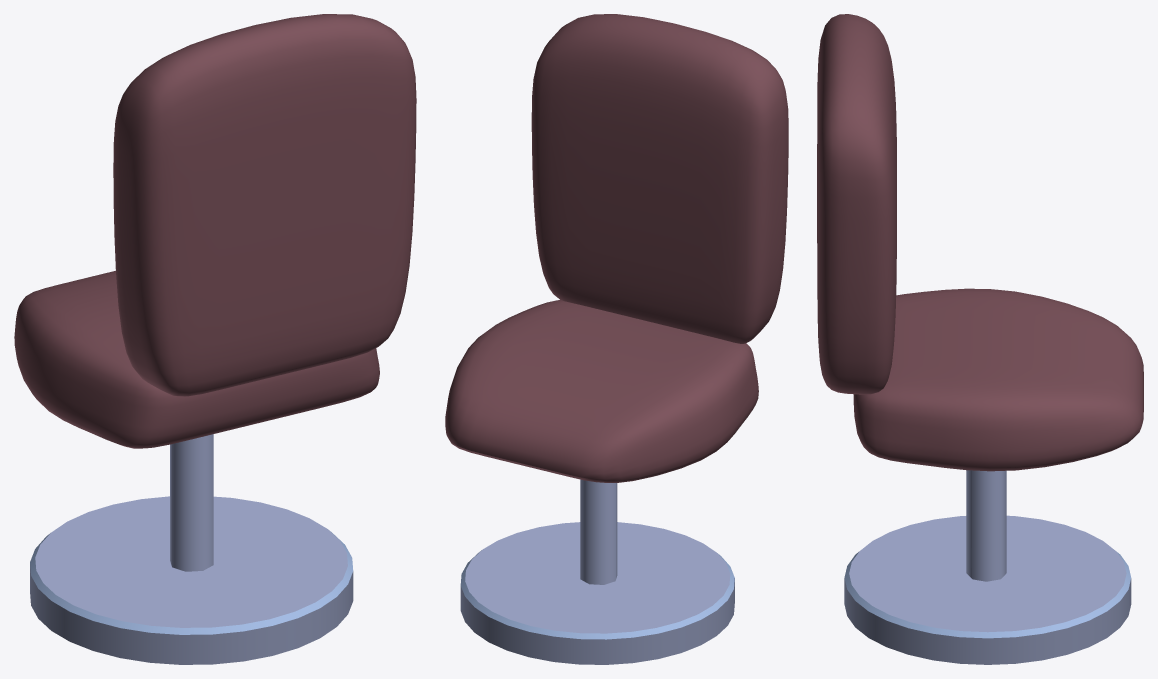
Rendered from Chair.fbx.
3 views of the same model, side by side, from view 1: azimuth 30°, elevation 25°; view 2: azimuth 150°, elevation 25°; view 3: azimuth 270°, elevation 25° (orthographic). The views are drawn at different scales.
Visible parts, largest first — view 1: Chair Sit, Chair Base, Chair Pole; view 2: Chair Sit, Chair Base, Chair Pole; view 3: Chair Sit, Chair Base, Chair Pole.
Boxes of the visible parts, left/top/right/bottom form: Chair Sit: left=14, top=14, right=416, bottom=448; Chair Base: left=30, top=496, right=353, bottom=664; Chair Pole: left=170, top=434, right=213, bottom=571; Chair Sit: left=445, top=14, right=788, bottom=482; Chair Base: left=460, top=522, right=734, bottom=664; Chair Pole: left=580, top=479, right=617, bottom=584; Chair Sit: left=817, top=14, right=1143, bottom=471; Chair Base: left=844, top=515, right=1131, bottom=664; Chair Pole: left=966, top=470, right=1006, bottom=581.
Bounding box in the file's own units: 80.32 × 163 × 86.76.
